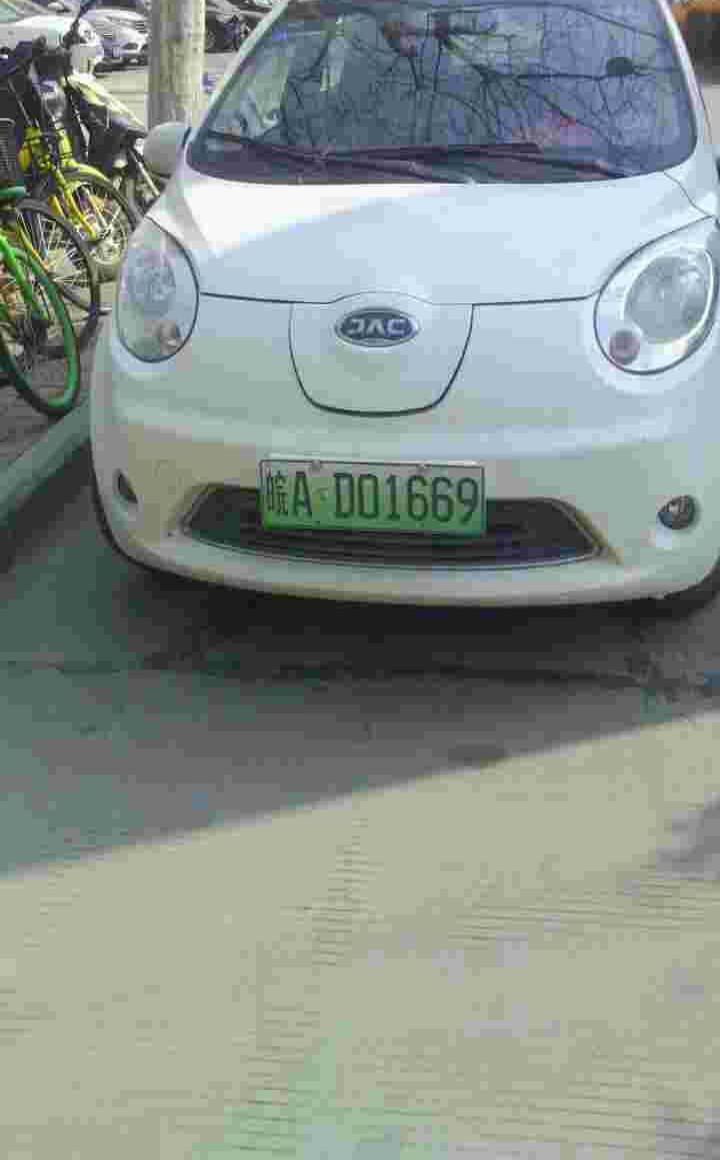car_id: (259, 460, 484, 535)
